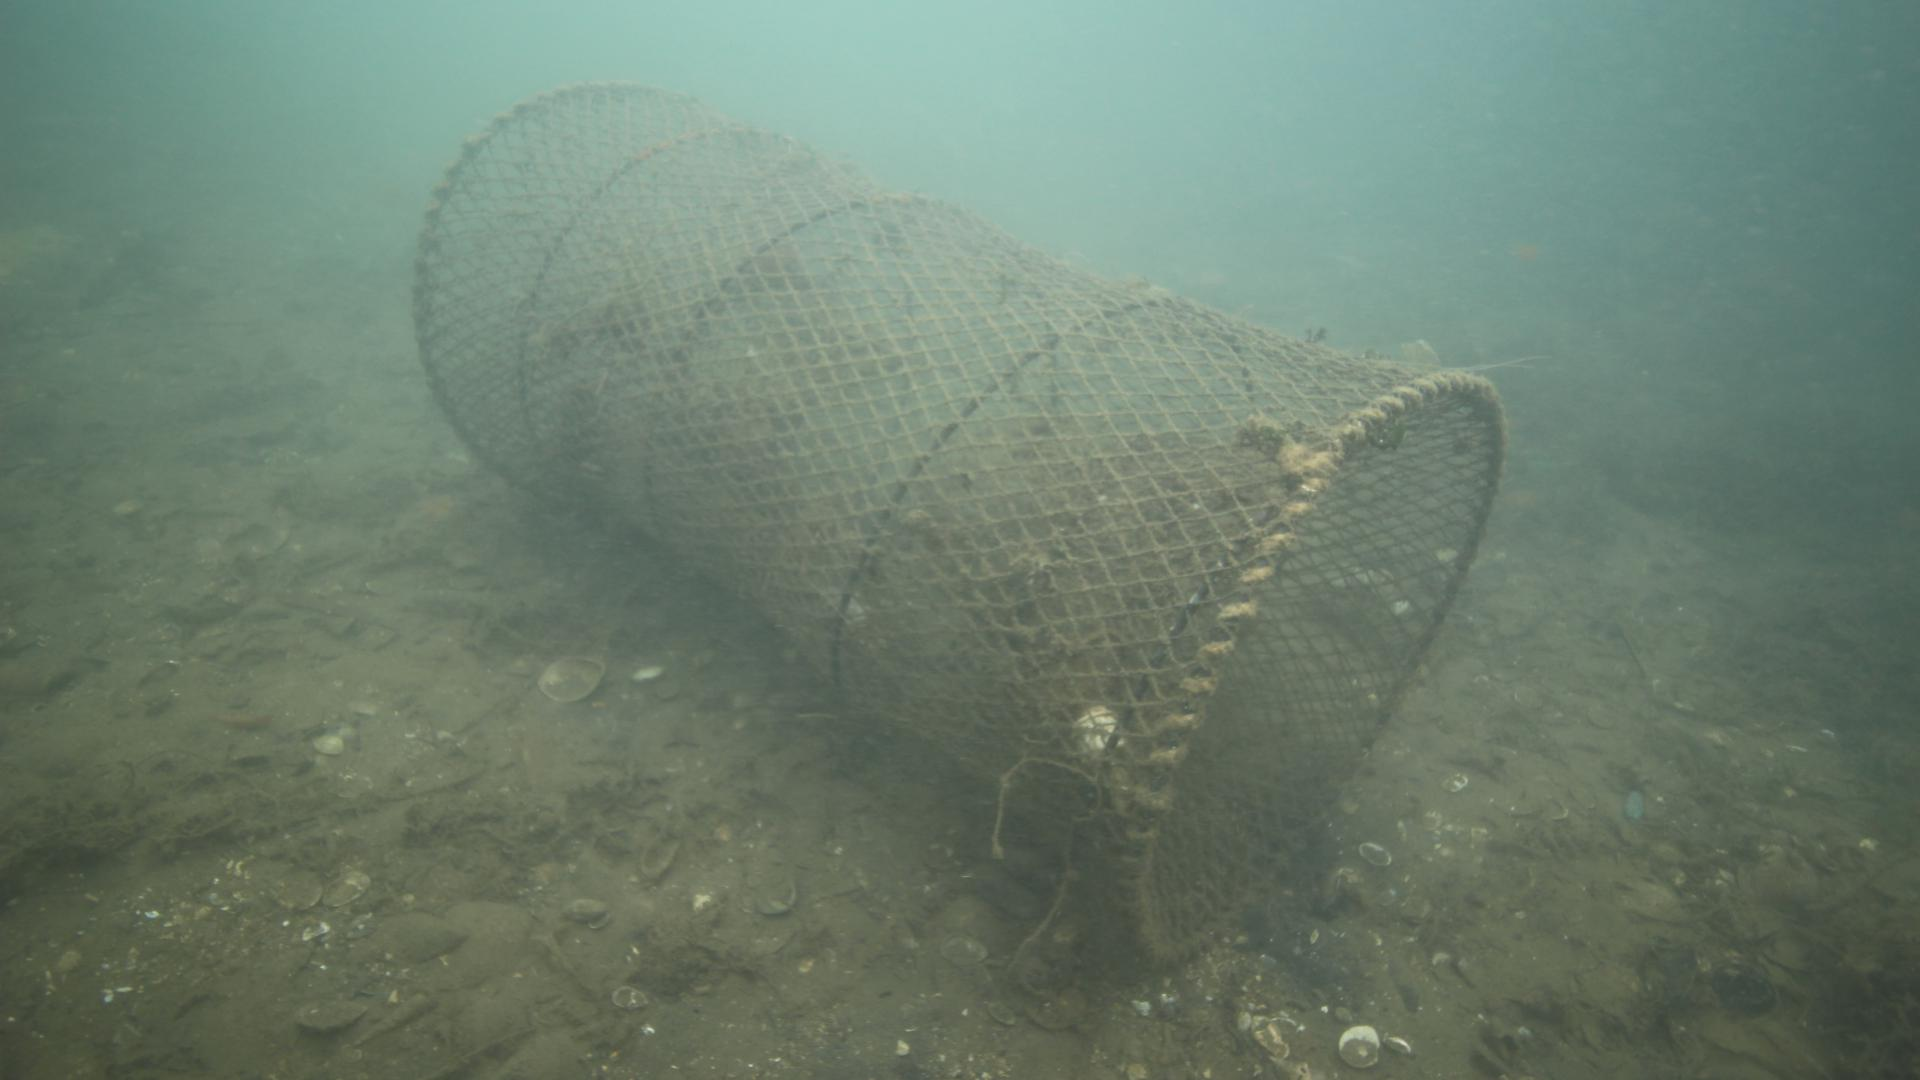spring fish trap: (409, 83, 1510, 971)
